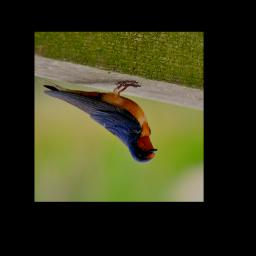Swallow: (42, 74, 161, 167)
